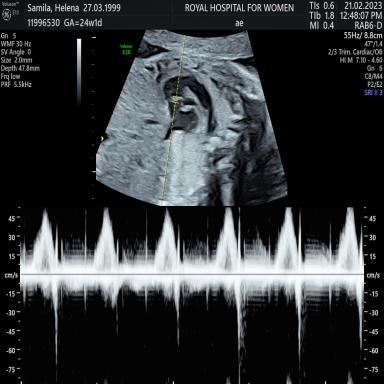Ultrasound-Waves: (28, 205, 359, 384)
